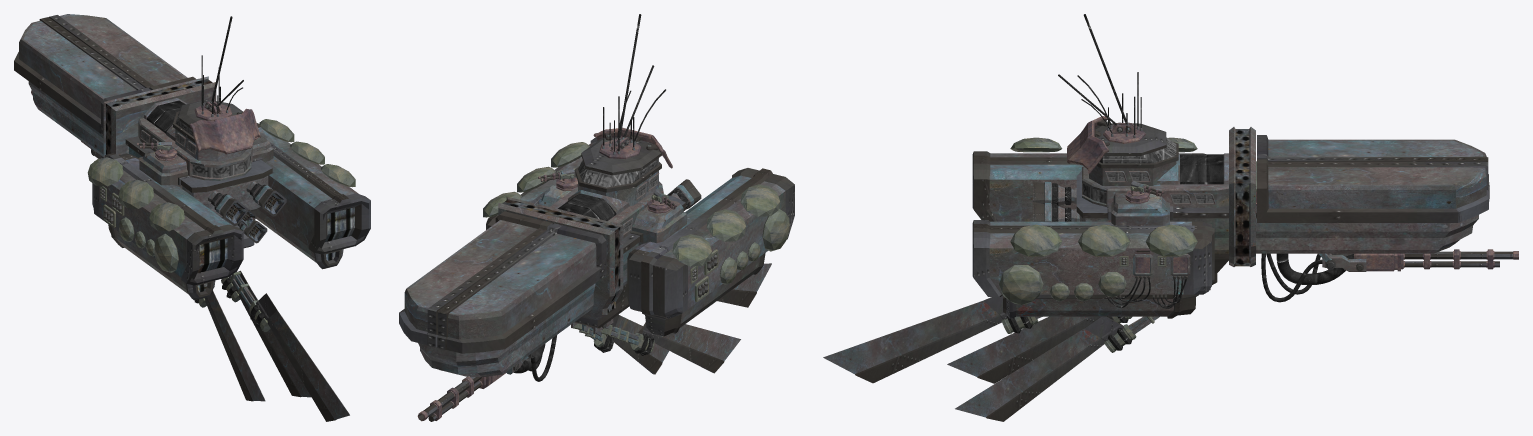
The model's file is spacefreighter.fbx.
The picture shows the model from 3 angles, left to right: view 1: azimuth 30°, elevation 25°; view 2: azimuth 150°, elevation 25°; view 3: azimuth 270°, elevation 25°; orthographic projection. The views are drawn at different scales.
Parts seen in each view (by area): view 1: FreighterGreyBox, freighterCover_L, freighterCover_R, freighterFin, freighterFin.002, freighterFin.001, freighterMainGun.002; view 2: FreighterGreyBox, freighterCover_L, freighterCover_R, freighterFin.002, freighterFin.001, freighterFin, freighterMainGun.001, freighterMainGun.002; view 3: FreighterGreyBox, freighterCover_R, freighterFin, freighterFin.001, freighterCover_L, freighterFin.002.
Part boxes in pixels (x1,y1,x2,y2): FreighterGreyBox: (28, 16, 370, 300); freighterCover_L: (14, 17, 150, 135); freighterCover_R: (49, 14, 196, 90); freighterFin: (229, 271, 349, 421); freighterFin.002: (194, 290, 265, 401); freighterFin.001: (221, 270, 311, 397); freighterMainGun.002: (137, 142, 177, 161); FreighterGreyBox: (417, 14, 794, 421); freighterCover_L: (437, 223, 606, 353); freighterCover_R: (399, 211, 552, 347); freighterFin.002: (601, 322, 740, 373); freighterFin.001: (573, 314, 668, 374); freighterFin: (717, 263, 771, 307); freighterMainGun.001: (538, 169, 577, 190); freighterMainGun.002: (647, 190, 676, 213); FreighterGreyBox: (972, 14, 1518, 318); freighterCover_R: (1257, 159, 1489, 222); freighterFin: (823, 295, 1042, 383); freighterFin.001: (955, 316, 1159, 421); freighterCover_L: (1257, 135, 1489, 186); freighterFin.002: (947, 316, 1132, 383).
Bounding box in the file's own units: 3591 × 6014 × 9625.
